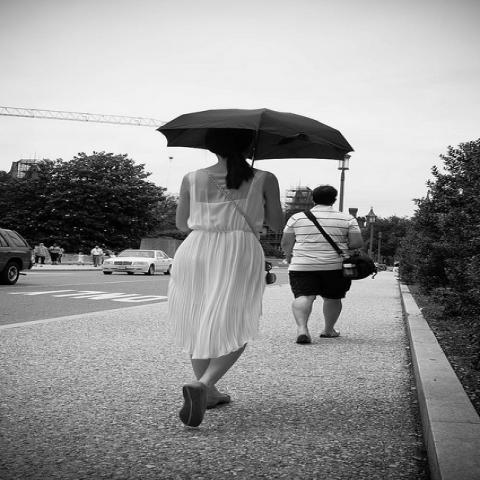car: (0, 229, 36, 282), (101, 249, 174, 275)
